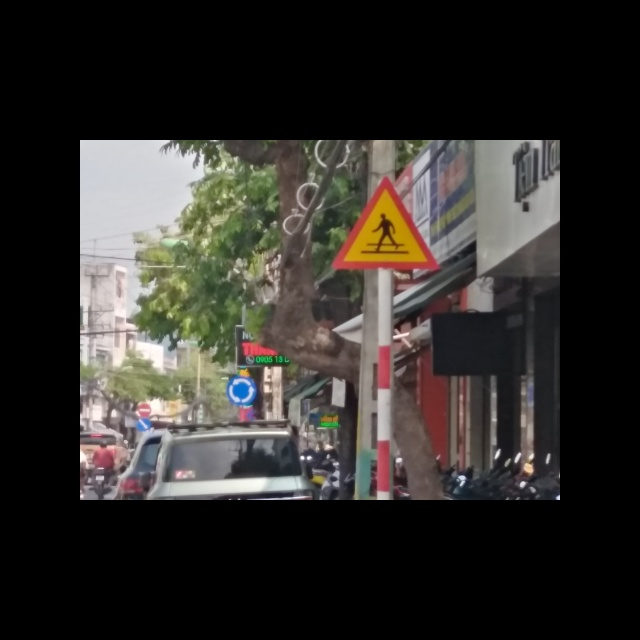Nơi giao nhau chạy theo vòng xuyến: (226, 377, 258, 406)
Đường người đi bộ sang đường: (332, 175, 443, 270)
